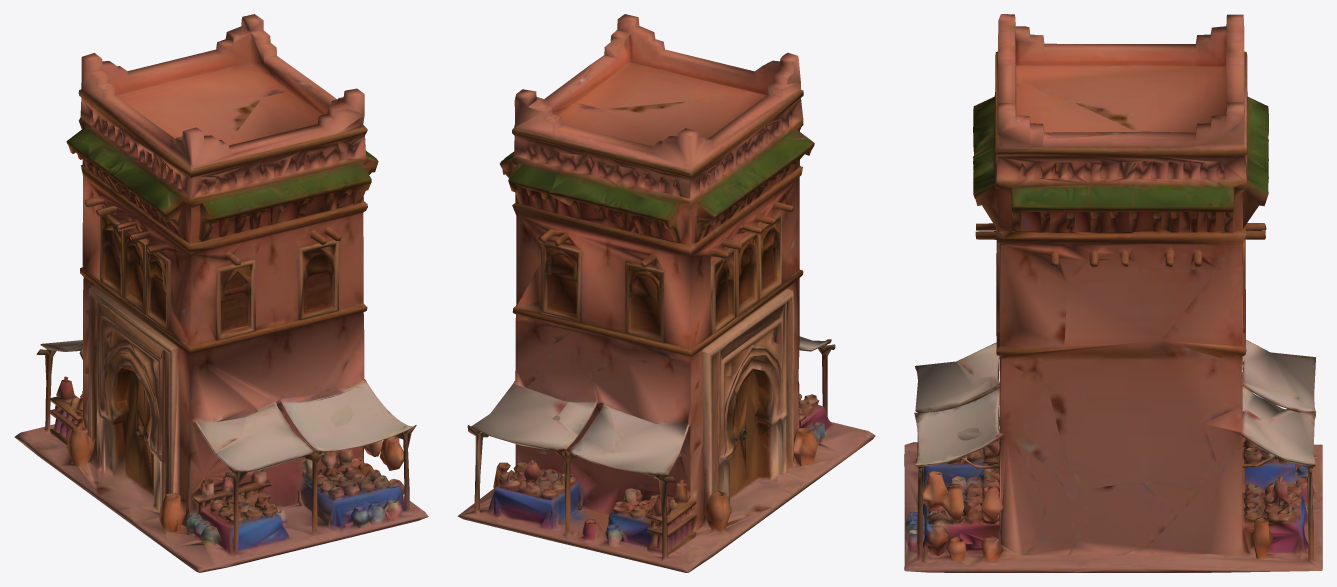
Rendered from house_dessert_outpost.glb.
3 views of the same model, side by side, from view 1: azimuth 30°, elevation 25°; view 2: azimuth 150°, elevation 25°; view 3: azimuth 270°, elevation 25° (orthographic). The views are drawn at different scales.
Visible parts, largest first — view 1: material; view 2: material; view 3: material.
Boxes of the visible parts, x1,y1,x2,y2 form: material: (14, 14, 428, 572); material: (457, 14, 875, 572); material: (904, 14, 1322, 572).
Bounding box in the file's own units: 0.503 × 0.8388 × 0.7041.
1 material, 1 textured.
